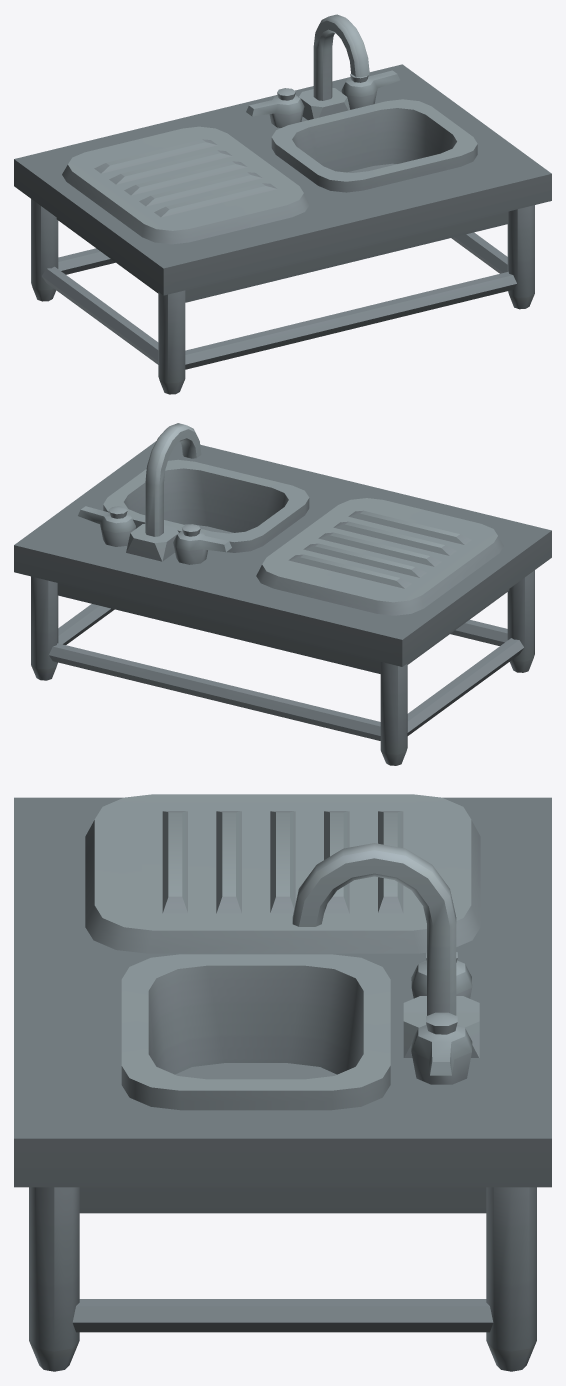
Rendered from kaykit-restaurant-bits-kitchentable-sink-large.glb.
3 renders of one model, top to bottom at view 1: azimuth 30°, elevation 25°; view 2: azimuth 150°, elevation 25°; view 3: azimuth 270°, elevation 25°, orthographic. The views are drawn at different scales.
Visible parts, largest first — view 1: kitchentable_sink_large; view 2: kitchentable_sink_large; view 3: kitchentable_sink_large.
Boxes of the visible parts, x1,y1,x2,y2 form: kitchentable_sink_large: (14, 14, 551, 394); kitchentable_sink_large: (14, 423, 551, 765); kitchentable_sink_large: (14, 794, 551, 1371).
Bounding box in the file's own units: 3 × 1.8 × 2.
1 material, 1 textured.
